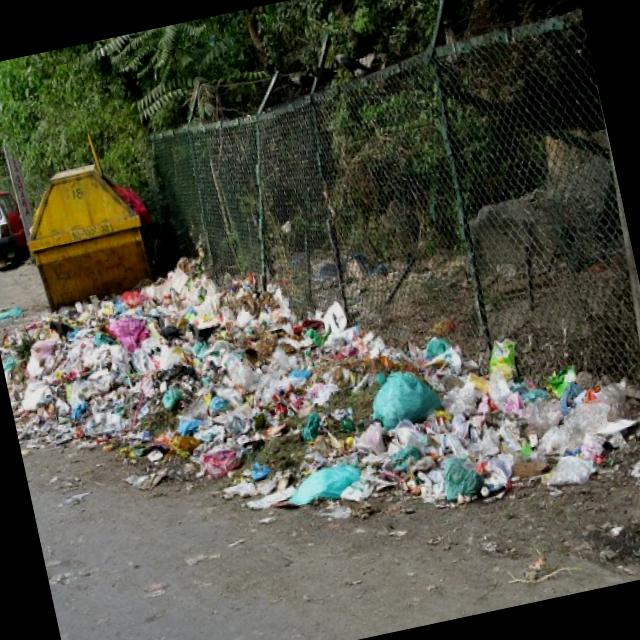garbage: (4, 190, 640, 640)
